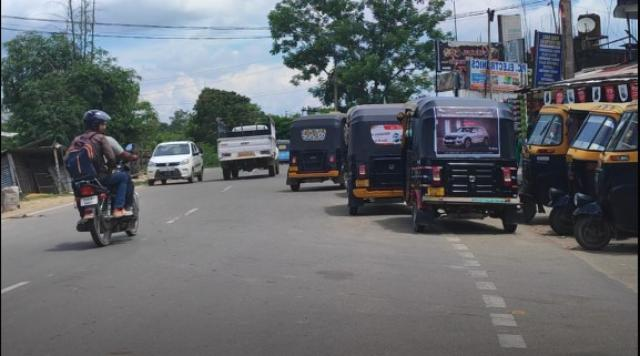licensePlate: (77, 196, 98, 208)
motorcycle: (64, 108, 140, 249)
withHelmet: (81, 111, 111, 132)
